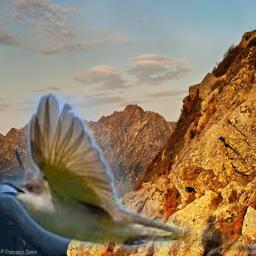Cuckoo: (0, 93, 256, 254)
